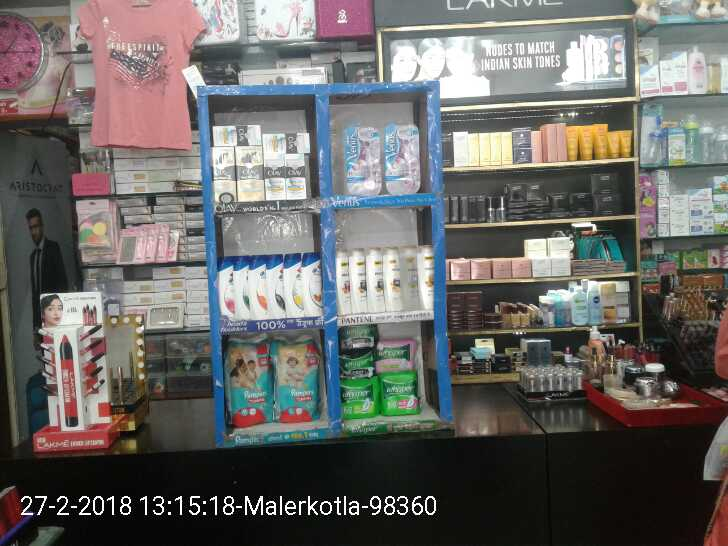venus: (383, 121, 418, 190), (349, 129, 381, 195)
